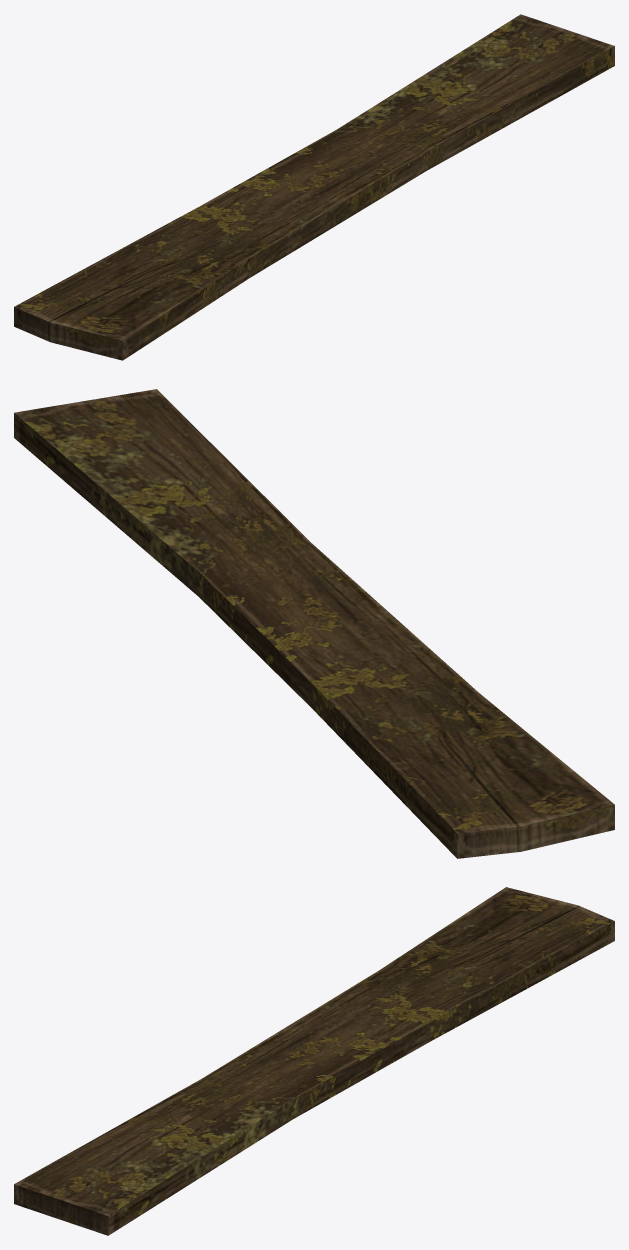
Rendered from Board_04.fbx.
3 renders of one model, top to bottom at view 1: azimuth 90°, elevation 25°; view 2: azimuth 150°, elevation 25°; view 3: azimuth 270°, elevation 25°, orthographic. The views are drawn at different scales.
Parts seen in each view (by area): view 1: Board_04; view 2: Board_04; view 3: Board_04.
Part boxes in pixels (x1,y1,x2,y2): Board_04: (14,14,614,360); Board_04: (14,389,614,858); Board_04: (14,887,614,1235).
Bounding box in the file's own units: 3.93 × 0.1174 × 3.04.
